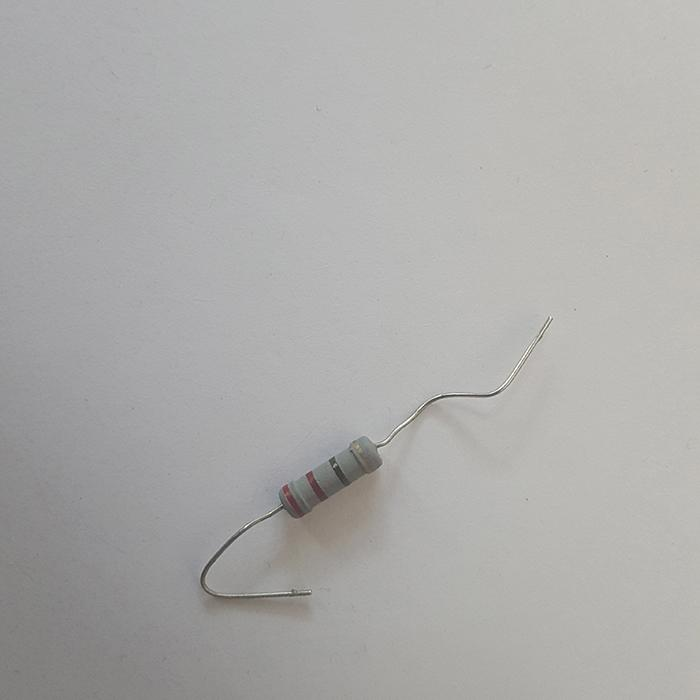resistor: (276, 434, 383, 519)
